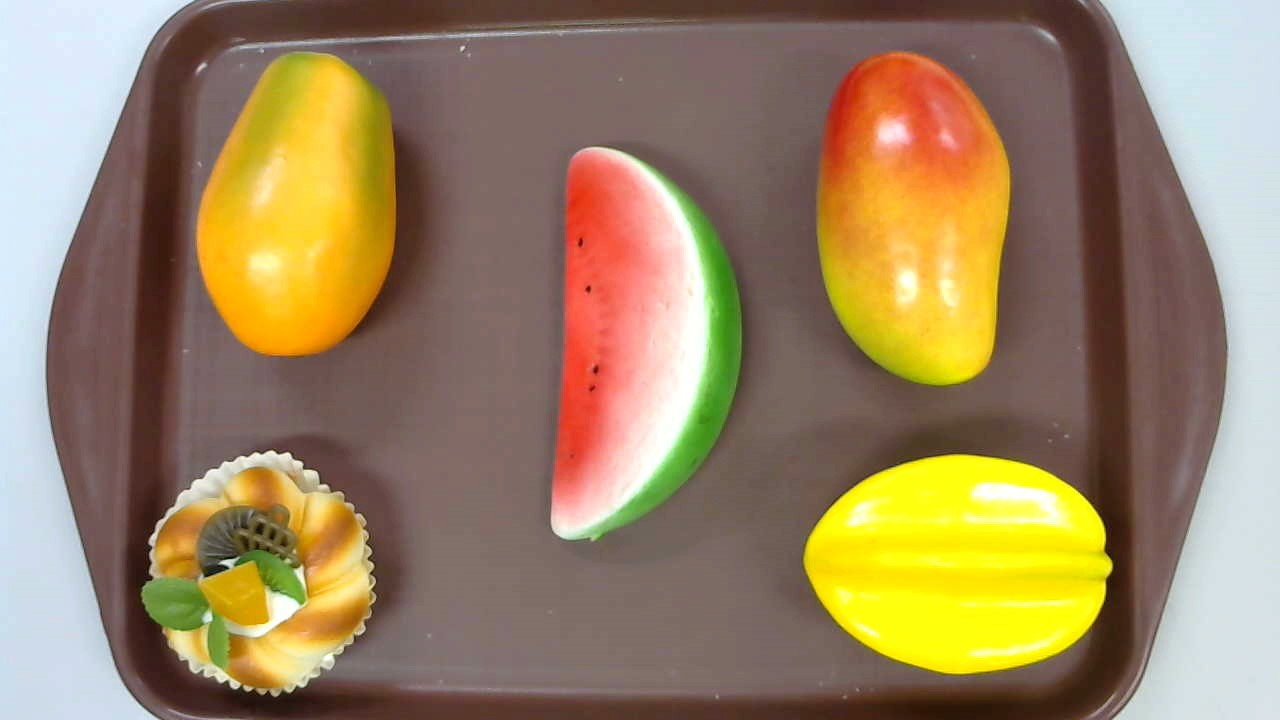fruit tart: (141, 450, 376, 699)
papya: (196, 51, 395, 356)
red mango: (816, 51, 1011, 386)
star fruit: (803, 455, 1112, 674)
water melon: (550, 147, 741, 541)
